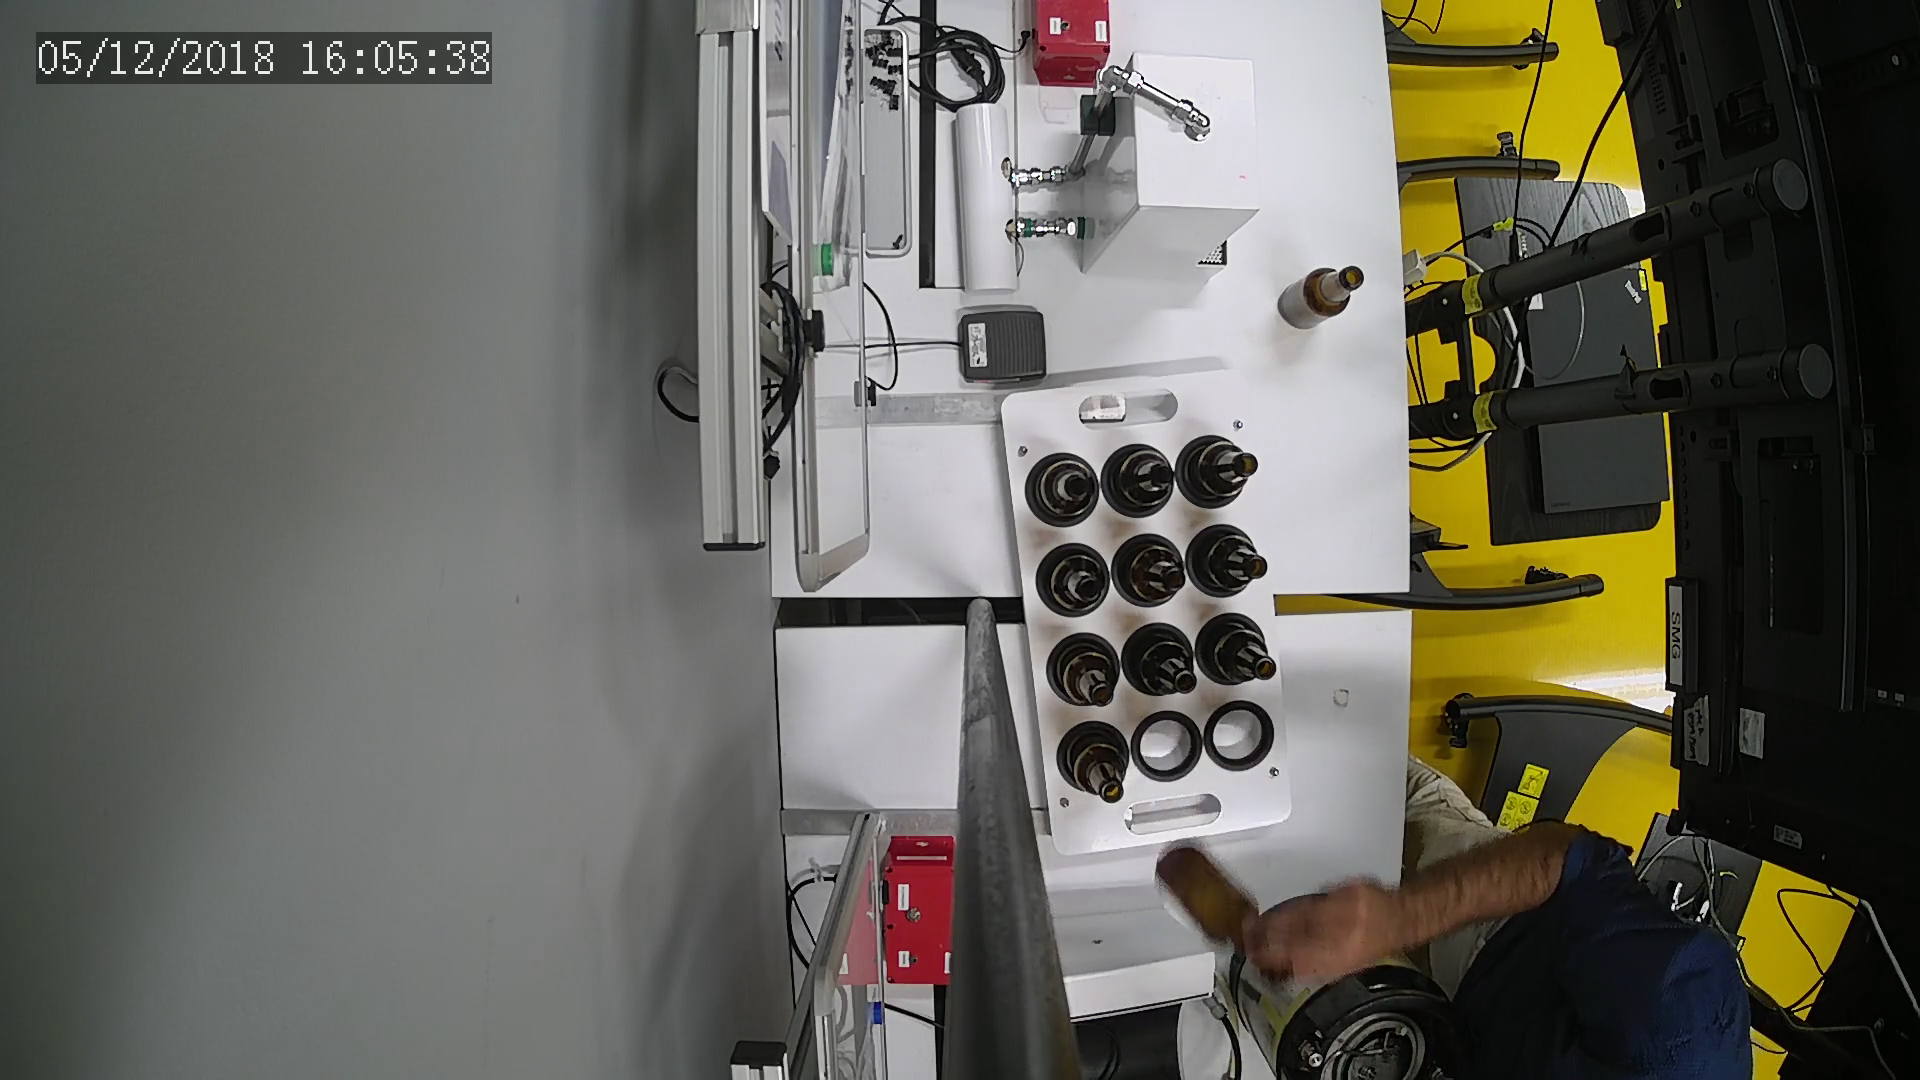filled_bottle: (1174, 426, 1269, 516), (1193, 611, 1287, 694), (1015, 443, 1106, 527), (1093, 440, 1185, 524), (1060, 717, 1139, 811), (1122, 622, 1207, 709), (1185, 526, 1276, 603), (1044, 634, 1124, 716), (1108, 535, 1187, 616), (1039, 538, 1116, 618)
trolley: (992, 361, 1303, 865)
unfilled_bottle: (1274, 265, 1367, 332)
